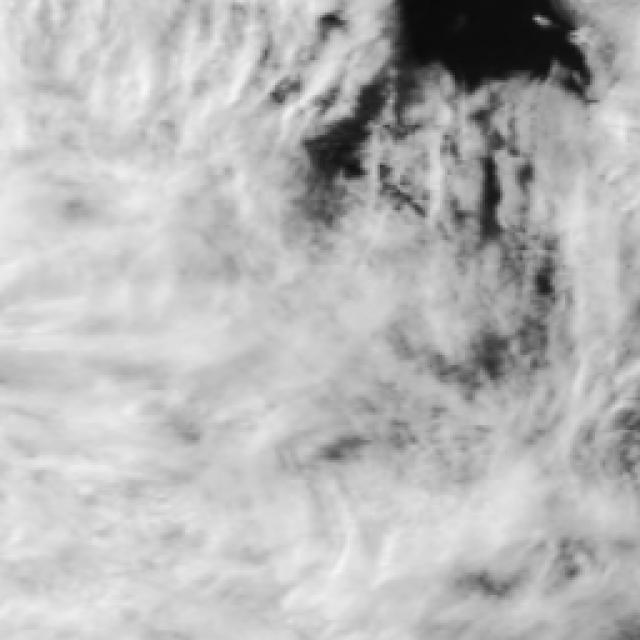CB: (0, 201, 210, 424), (0, 427, 210, 640), (0, 0, 193, 206), (212, 405, 376, 634), (197, 246, 369, 408), (187, 0, 301, 211)
